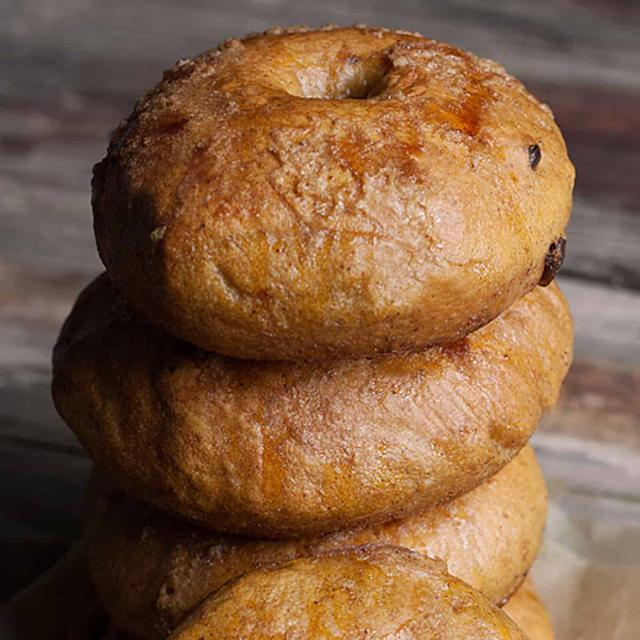Bagel: (92, 26, 575, 359), (52, 274, 572, 538)
